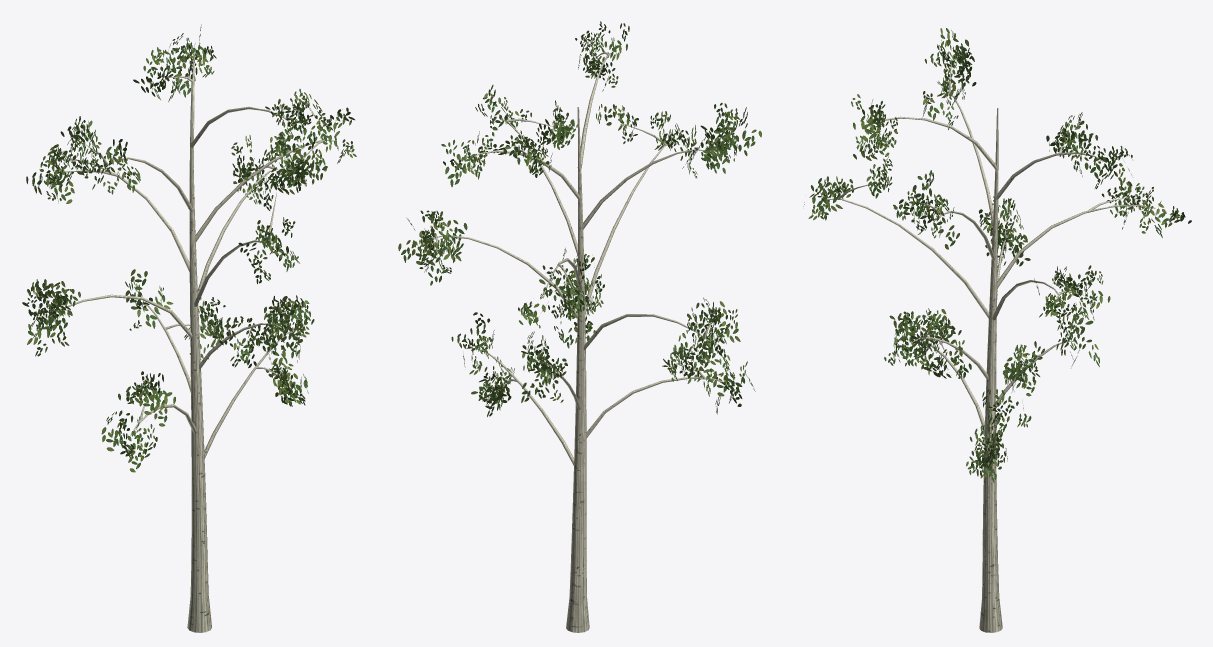
File: paper_birch_LOD2.glb
3 views of the same model, side by side, from view 1: azimuth 30°, elevation 25°; view 2: azimuth 150°, elevation 25°; view 3: azimuth 270°, elevation 25° (orthographic). The views are drawn at different scales.
Parts seen in each view (by area): view 1: paper_birch_foliage, paper_birch_wood; view 2: paper_birch_foliage, paper_birch_wood; view 3: paper_birch_foliage, paper_birch_wood.
Boxes of the visible parts, x1,y1,x2,y2 form: paper_birch_foliage: (22, 24, 356, 472); paper_birch_wood: (46, 54, 336, 632); paper_birch_foliage: (398, 21, 761, 416); paper_birch_wood: (432, 52, 726, 632); paper_birch_foliage: (803, 28, 1191, 482); paper_birch_wood: (826, 64, 1155, 632).
Size of the model in its own units: 9.42 by 16.22 by 10.65.
2 materials, 2 textured.
